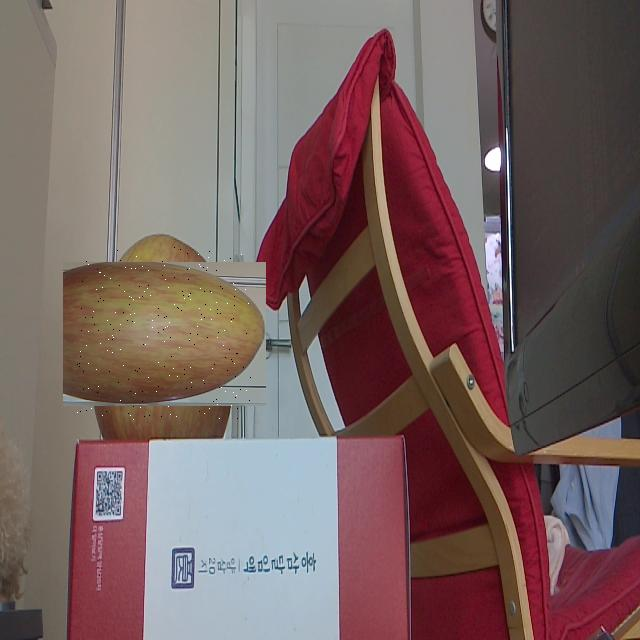apple: (77, 247, 251, 421)
